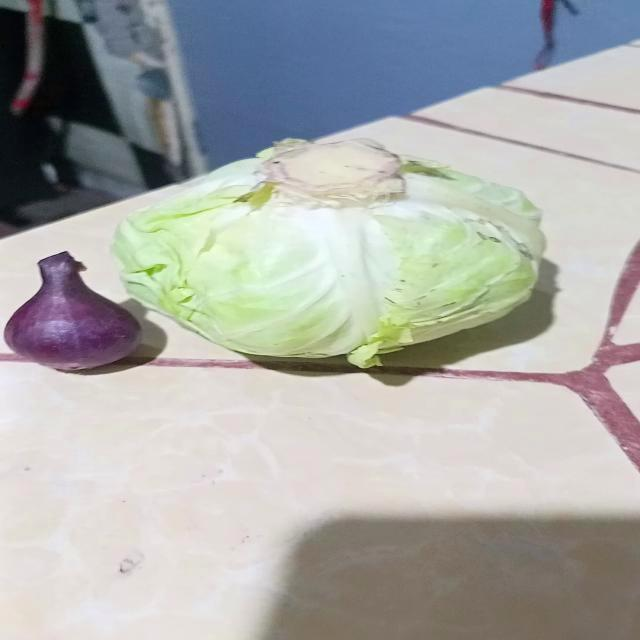cabbage: (110, 142, 546, 373)
onion: (3, 251, 143, 371)
